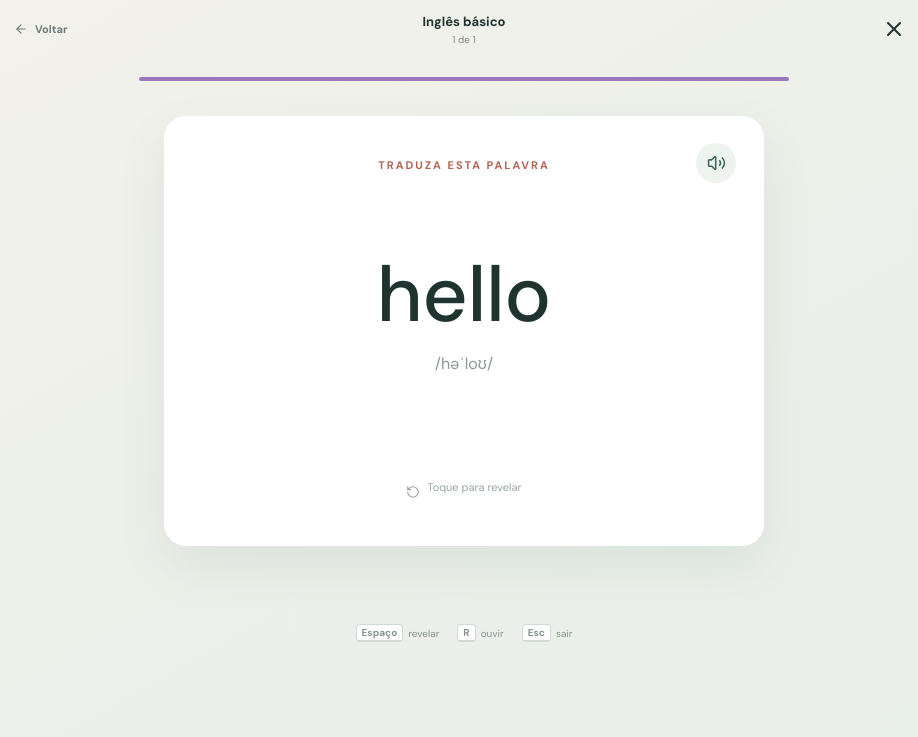
StudyPage › revela a resposta e conclui uma sessão
What coordinates should you click on to do the following:
click the button with aria-label "hello. Pressione para revelar"
I would click on:
 (464, 331)
Its box is [164,116,764,546].
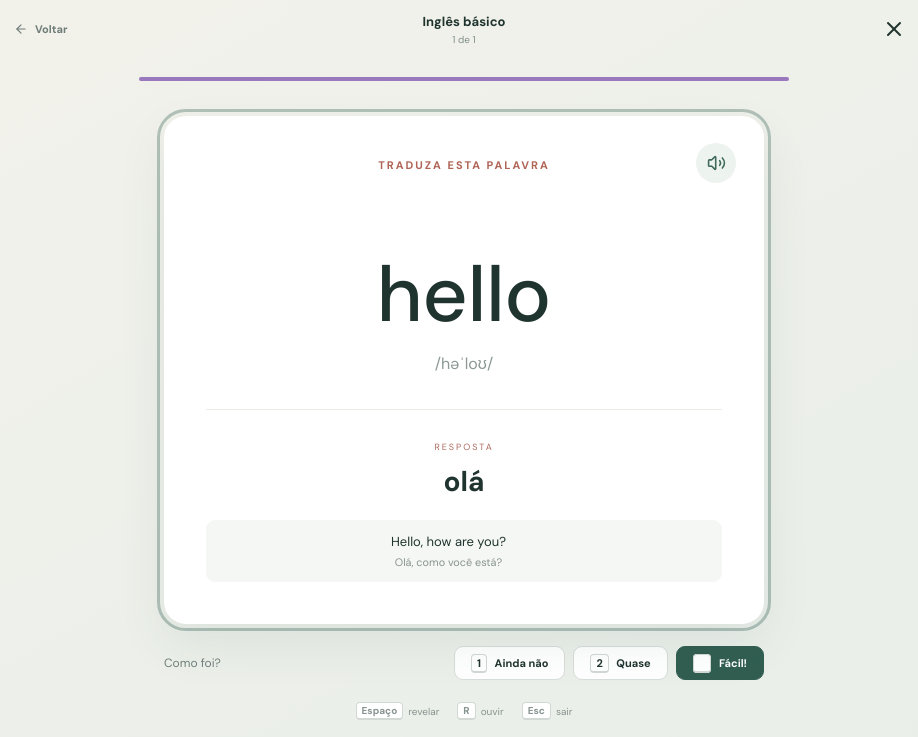
Expected: the heading "olá" is shown, [444,463,484,500]
What coordinates should you click on to do the following:
click the button "3 Fácil!"
I would click on:
 (720, 663)
Its box is [676,646,764,680].
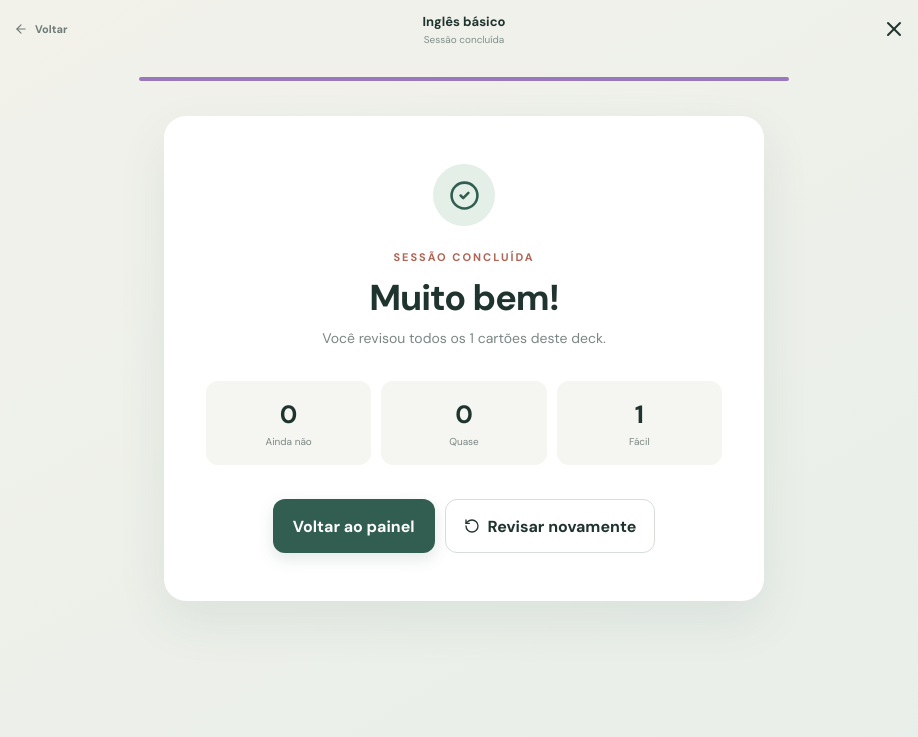
Expected: the heading "Muito bem!" is shown, [369,274,559,321]
Expected: the text "Você revisou todos os 1 cartões deste deck." is shown, [322,329,606,347]
